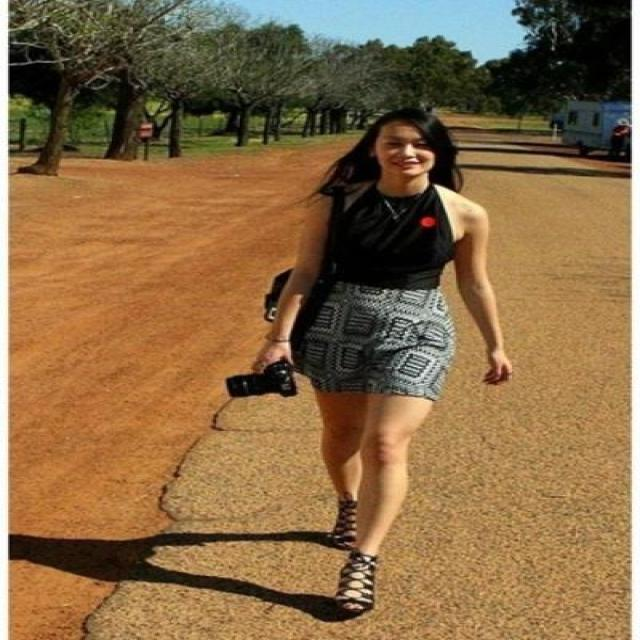shirt: (320, 182, 472, 302)
shoe: (323, 512, 376, 615)
skirt: (288, 269, 453, 402)
